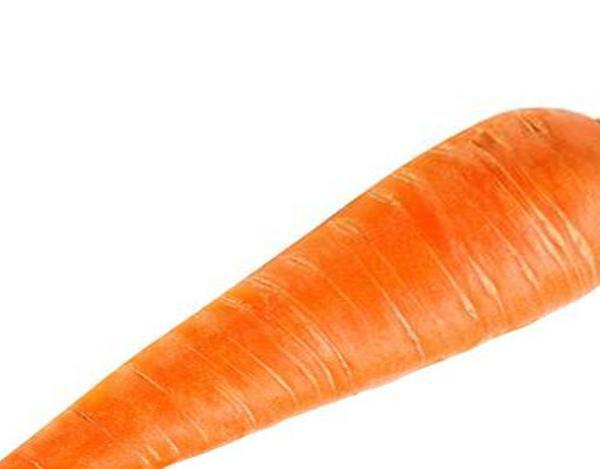carrot: (62, 84, 600, 446)
